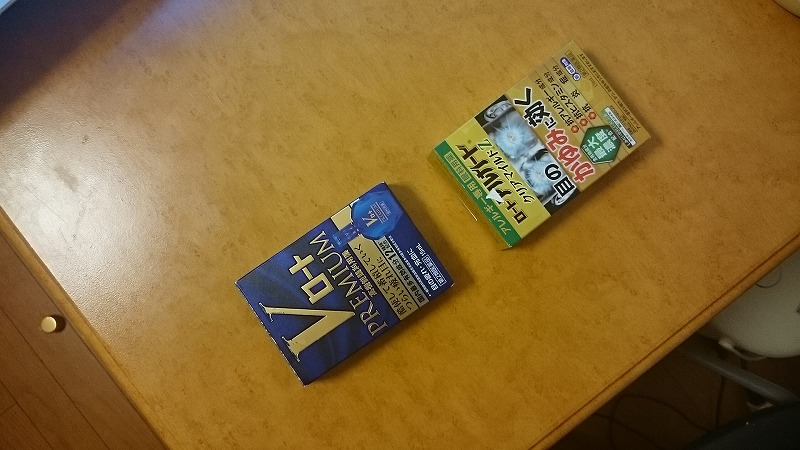C: (428, 35, 656, 252)
D: (231, 179, 458, 395)
